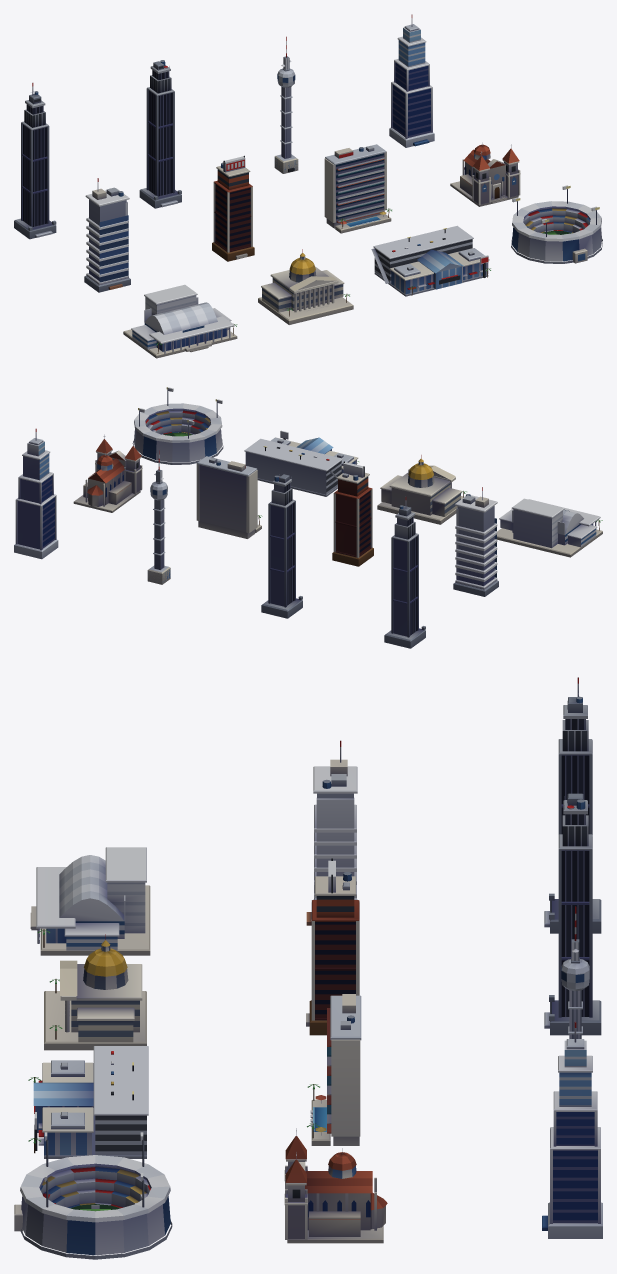
File: ccs_landmarks.glb
The picture shows the model from 3 angles, top to bottom: view 1: azimuth 30°, elevation 25°; view 2: azimuth 150°, elevation 25°; view 3: azimuth 270°, elevation 25°; orthographic projection. The views are drawn at different scales.
Visible parts, largest first — view 1: centro_comercial, estadio, teatro_teresa_carreno, hotel_alba, torre_oficina_a, torre_oficina_b, torre_pc_b, capitolio, torre_pc_a, torre_oficina_c, iglesia_catedral, torre_telefonica; view 2: estadio, hotel_alba, centro_comercial, teatro_teresa_carreno, torre_oficina_a, torre_oficina_b, torre_pc_b, torre_pc_a, torre_oficina_c, capitolio, iglesia_catedral, torre_telefonica; view 3: estadio, centro_comercial, teatro_teresa_carreno, torre_oficina_a, capitolio, iglesia_catedral, torre_pc_b, torre_oficina_c, hotel_alba, torre_oficina_b, torre_pc_a, torre_telefonica.
Boxes of the visible parts, x1,y1,x2,y2 form: centro_comercial: (371,225,490,296); estadio: (511,185,602,263); teatro_teresa_carreno: (123,284,237,358); hotel_alba: (324,144,391,233); torre_oficina_a: (389,14,434,147); torre_oficina_b: (84,178,130,292); torre_pc_b: (139,60,181,208); capitolio: (258,249,353,324); torre_pc_a: (14,82,56,239); torre_oficina_c: (212,155,254,261); iglesia_catedral: (450,142,520,206); torre_telefonica: (274,36,298,173); estadio: (133,387,223,464); hotel_alba: (196,456,262,538); centro_comercial: (244,430,358,496); teatro_teresa_carreno: (495,498,602,557); torre_oficina_a: (14,428,58,559); torre_oficina_b: (453,487,498,596); torre_pc_b: (261,474,302,618); torre_pc_a: (384,497,425,648); torre_oficina_c: (332,461,373,566); capitolio: (377,455,466,524); iglesia_catedral: (73,434,142,512); torre_telefonica: (147,450,170,584); estadio: (14,1132,172,1259); centro_comercial: (28,1045,148,1158); teatro_teresa_carreno: (30,847,150,955); torre_oficina_a: (542,1022,602,1238); capitolio: (44,934,146,1050); iglesia_catedral: (284,1128,387,1243); torre_pc_b: (544,793,601,1035); torre_oficina_c: (306,858,359,1035); hotel_alba: (307,994,361,1145); torre_oficina_b: (306,740,357,925); torre_pc_a: (544,677,601,933); torre_telefonica: (561,906,589,1038).
Size of the model in its own units: 256 by 78.5 by 172.
